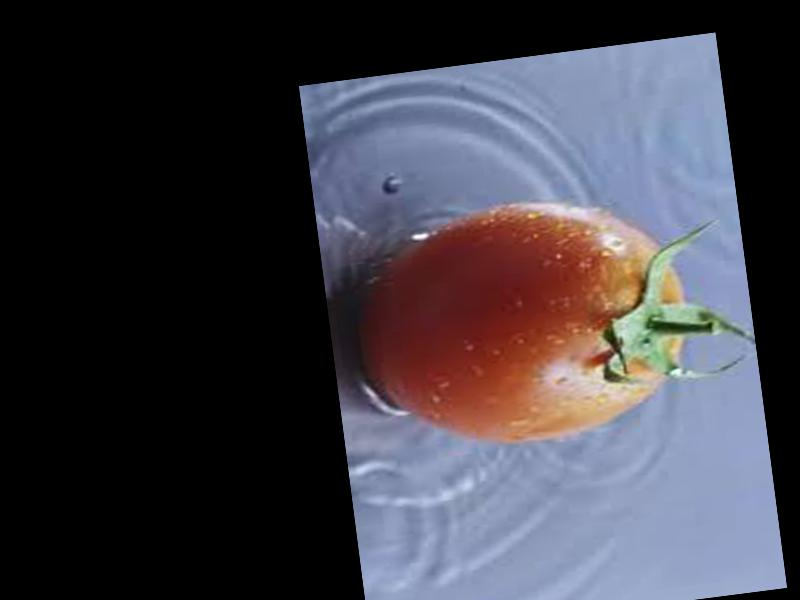Tomato: (345, 187, 697, 460)
